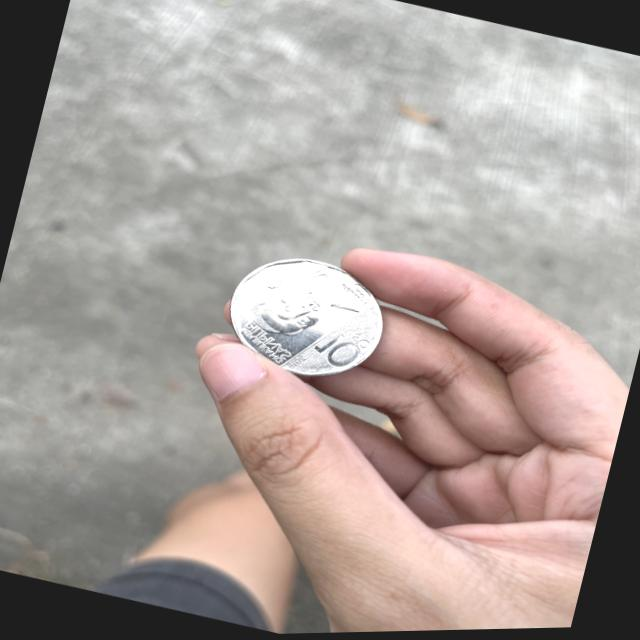10_New_Front: (299, 314, 375, 379)
